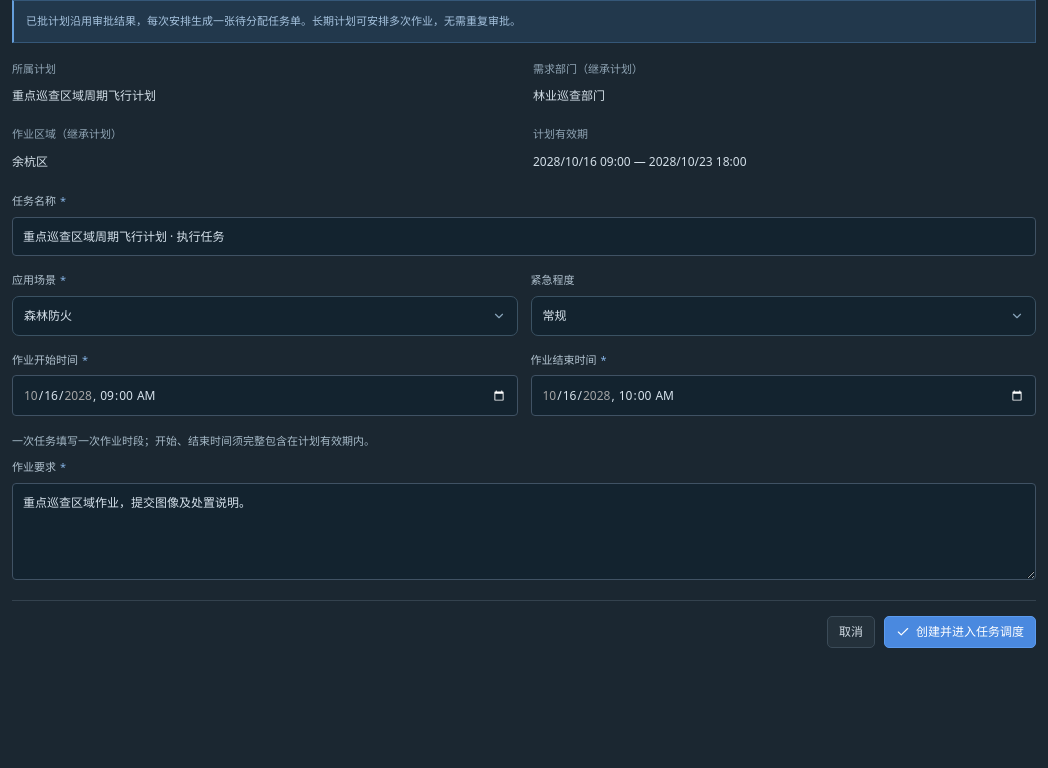
Test: 安排执行任务表单 › 超出计划有效期时在页面阻止提交，并说明原因
This screenshot has width=1048, height=768.
Replace the text in the field labelled "作业结束时间*" with "2028-10-24T12:00" at point(783, 396), box [530,375,1036,416]
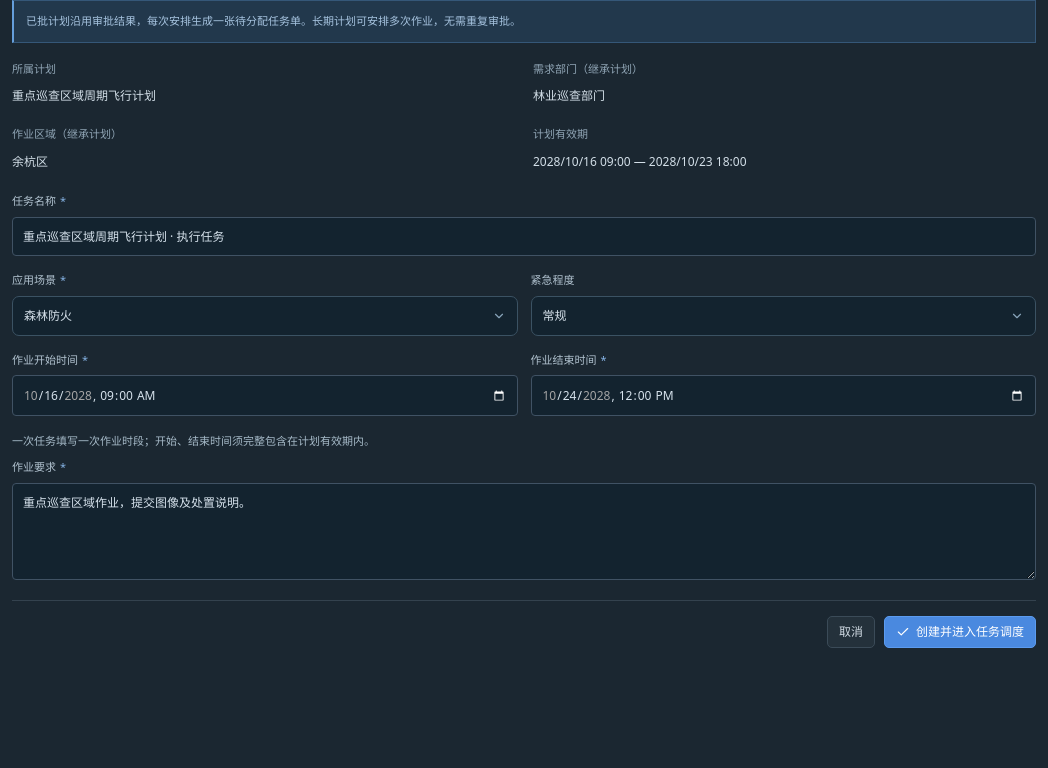
Submit the form with test id "plan-task-form"
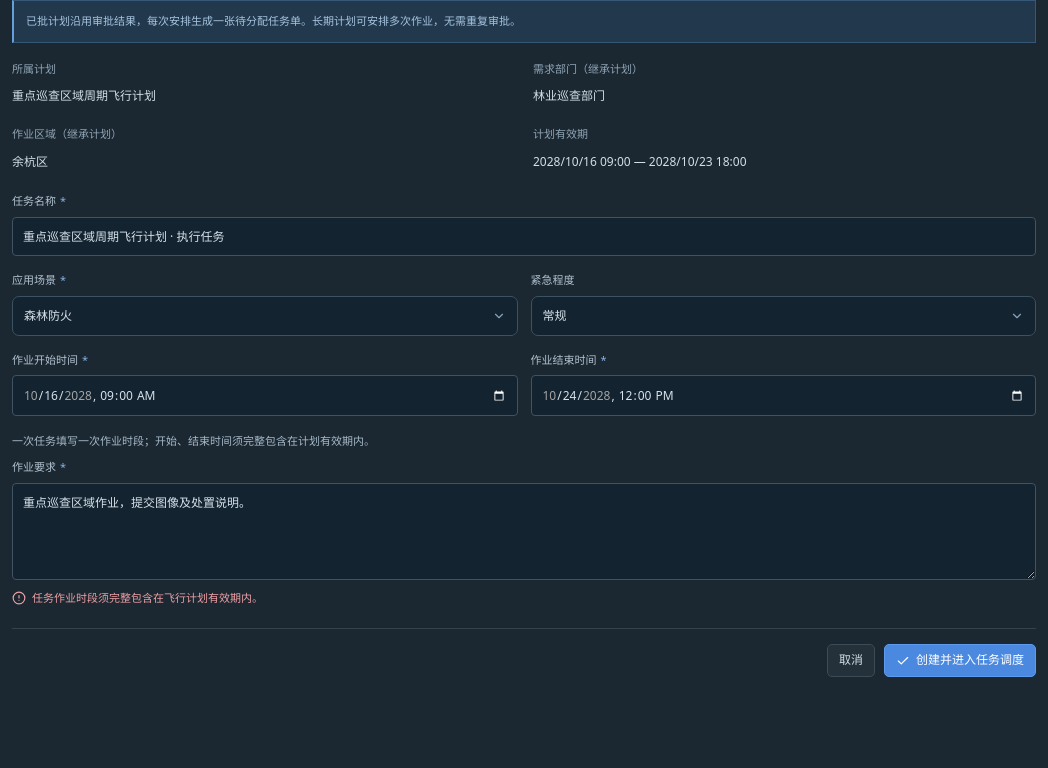
Expected: the message shows "完整包含在飞行计划有效期内", [32,590,263,605]
